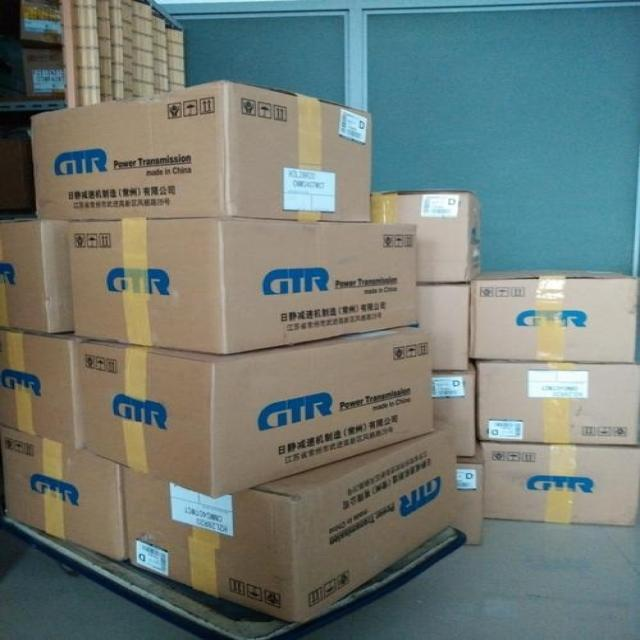box: (119, 433, 460, 624), (74, 325, 432, 498), (34, 81, 375, 222), (67, 219, 419, 355), (0, 429, 128, 565), (468, 267, 637, 362), (474, 359, 639, 446), (481, 440, 639, 525), (370, 192, 482, 284), (0, 329, 81, 450), (0, 219, 71, 334), (414, 284, 470, 370), (431, 362, 478, 459), (453, 442, 484, 543)
